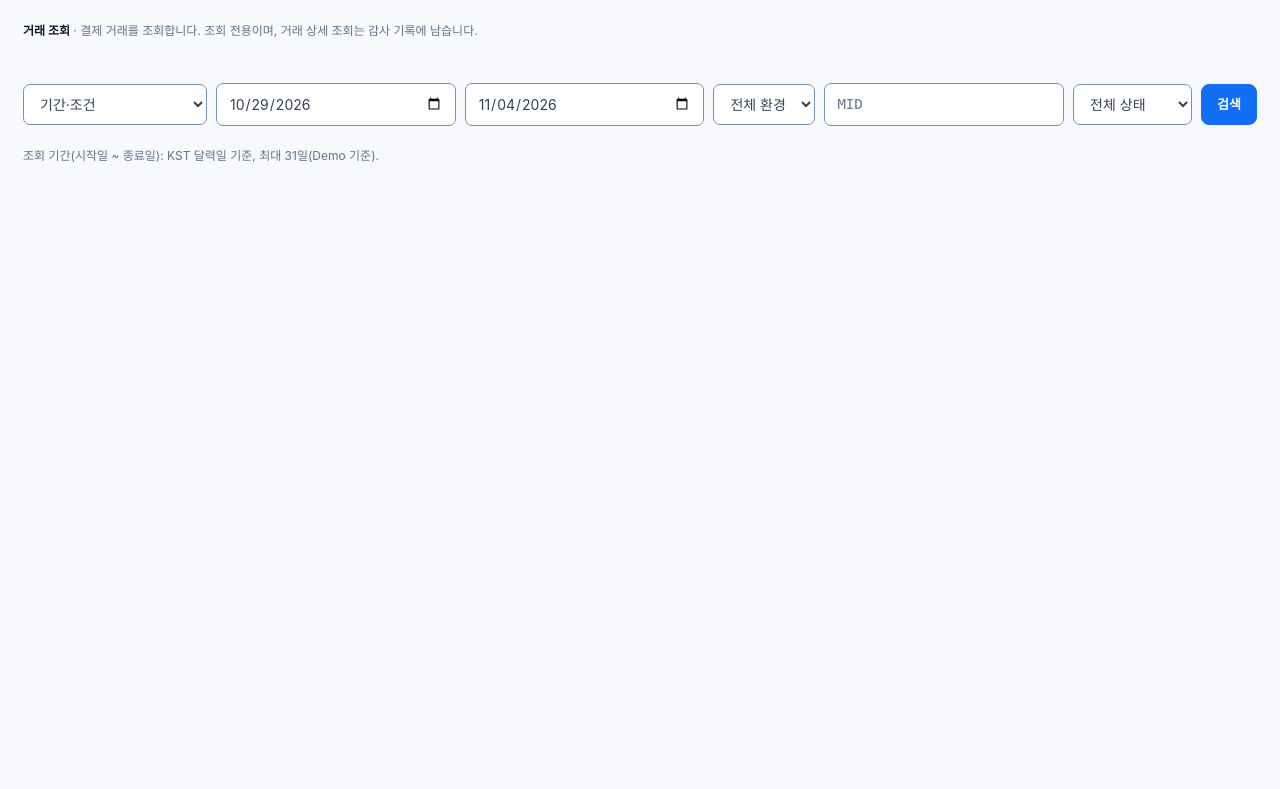
Test case: TransactionsScreen (TXN-OPS-001 §7 AC 10 — read-only transaction lookup) › the detail shows the full order name, approval number, provider transaction id, cancel initiators (no reason), the balance and the hold
Click the button "검색".
click(1229, 104)  # box x1=1201 y1=84 x2=1257 y2=125
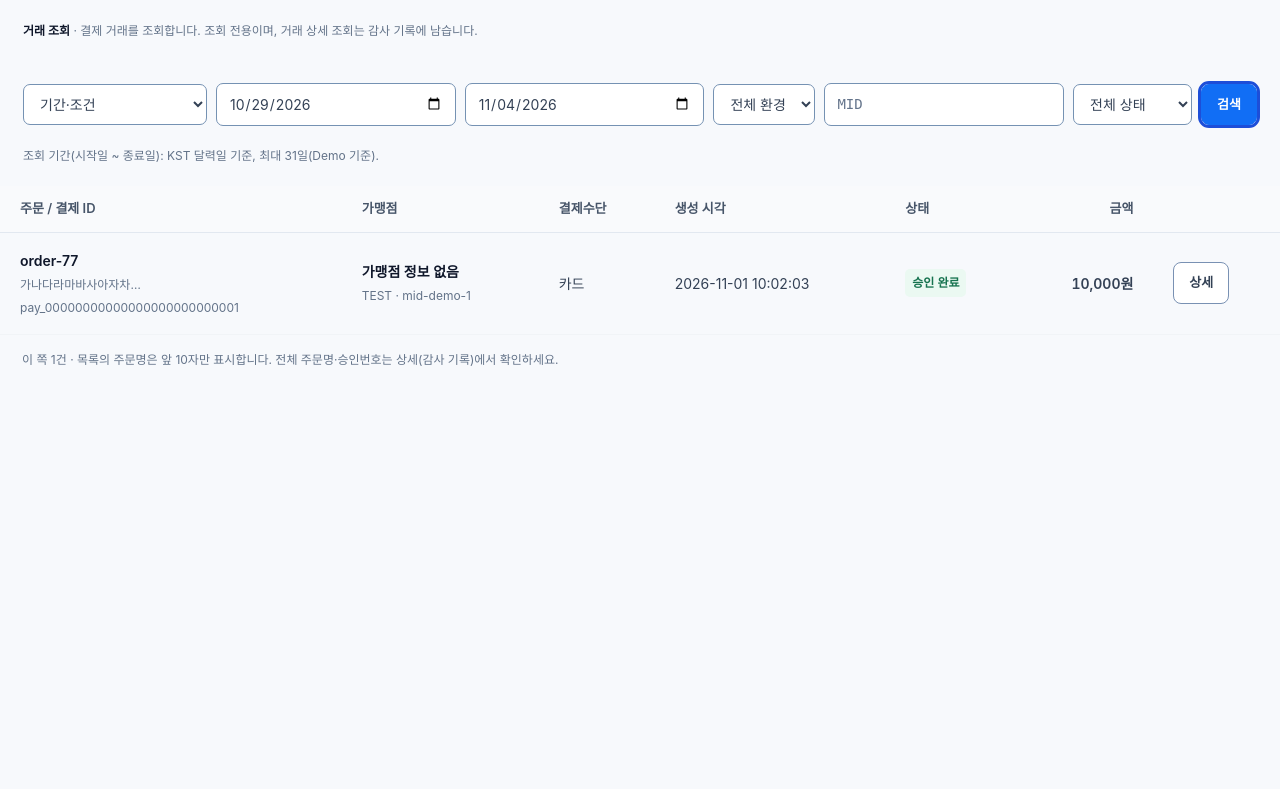
Click the button "상세".
click(1201, 283)  # box x1=1173 y1=262 x2=1229 y2=304
(page scrolled)
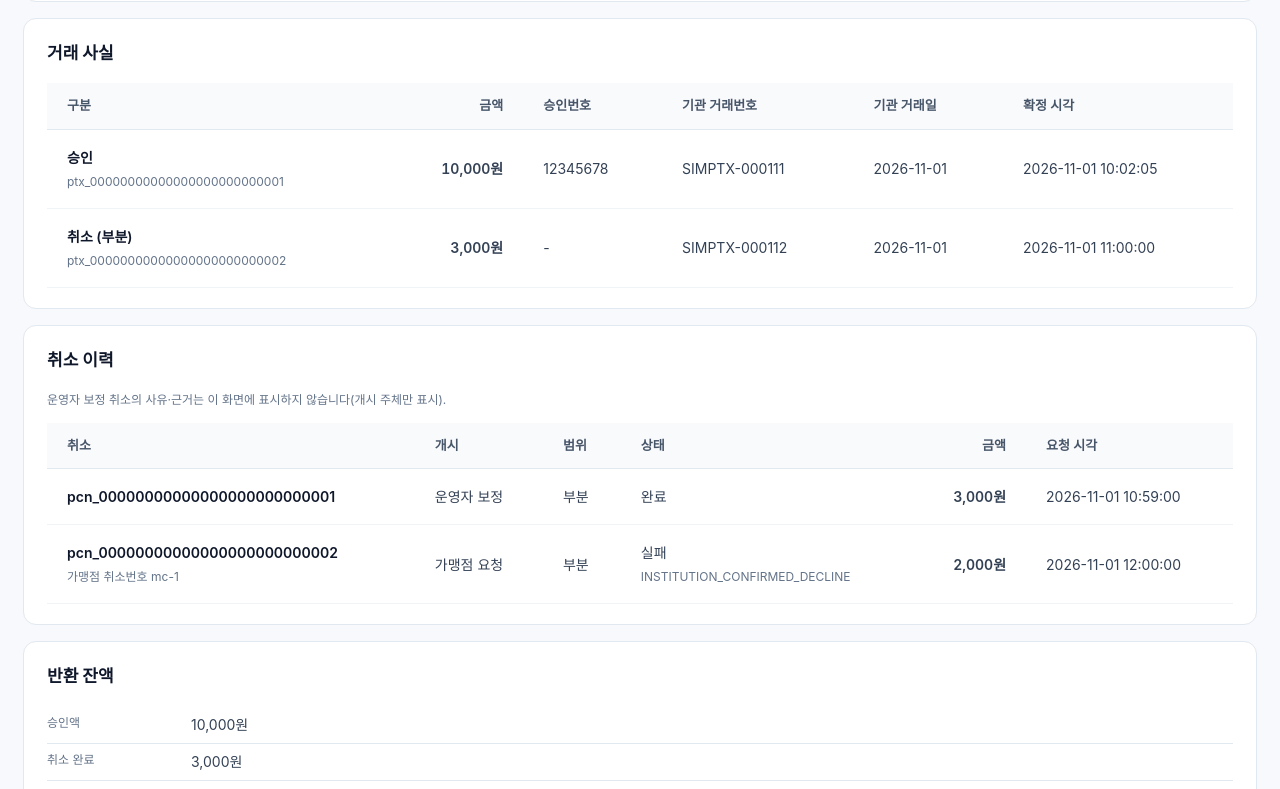
Expected: the text "SIMPTX-000111" is shown, x1=662 y1=129 x2=854 y2=208
Expected: the text "취소 (부분)" is shown, x1=67 y1=228 x2=132 y2=245
Expected: the text "INSTITUTION_CONFIRMED_DECLINE" is shown, x1=641 y1=569 x2=851 y2=584
